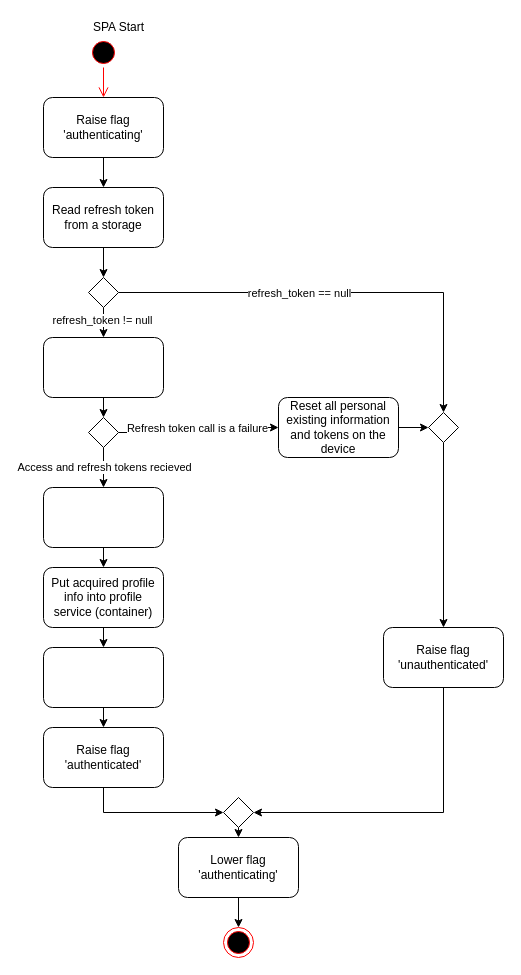
Image size: 521x975. Some labels were removed from this diagram. The shapes that lost their labels are listed below. From the top down, each one's centre as x and y in pixels, then its label:
At (x=103, y=367): "Call /api/refresh_token and recieve access and refresh token".
At (x=103, y=517): "Save tokens to a token storage service".
At (x=103, y=677): "Make a promise to refresh tokens after N seconds".
